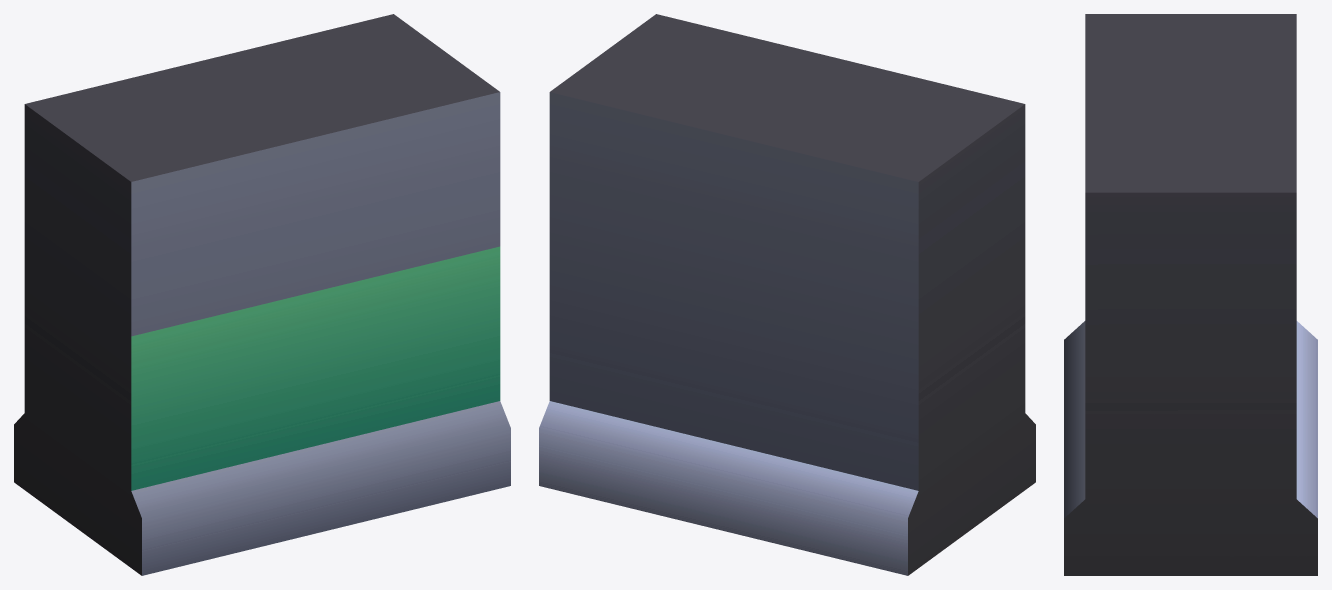
Rendered from wall.glb.
The picture shows the model from 3 angles, left to right: view 1: azimuth 30°, elevation 25°; view 2: azimuth 150°, elevation 25°; view 3: azimuth 270°, elevation 25°; orthographic projection.
Parts seen in each view (by area): view 1: wall; view 2: wall; view 3: wall.
Boxes of the visible parts, x1,y1,x2,y2 form: wall: (14,14,510,575); wall: (539,14,1035,575); wall: (1064,14,1317,575).
Bounding box in the file's own units: 1 × 1 × 0.6001.
Materials: 1 (1 with a texture image).
